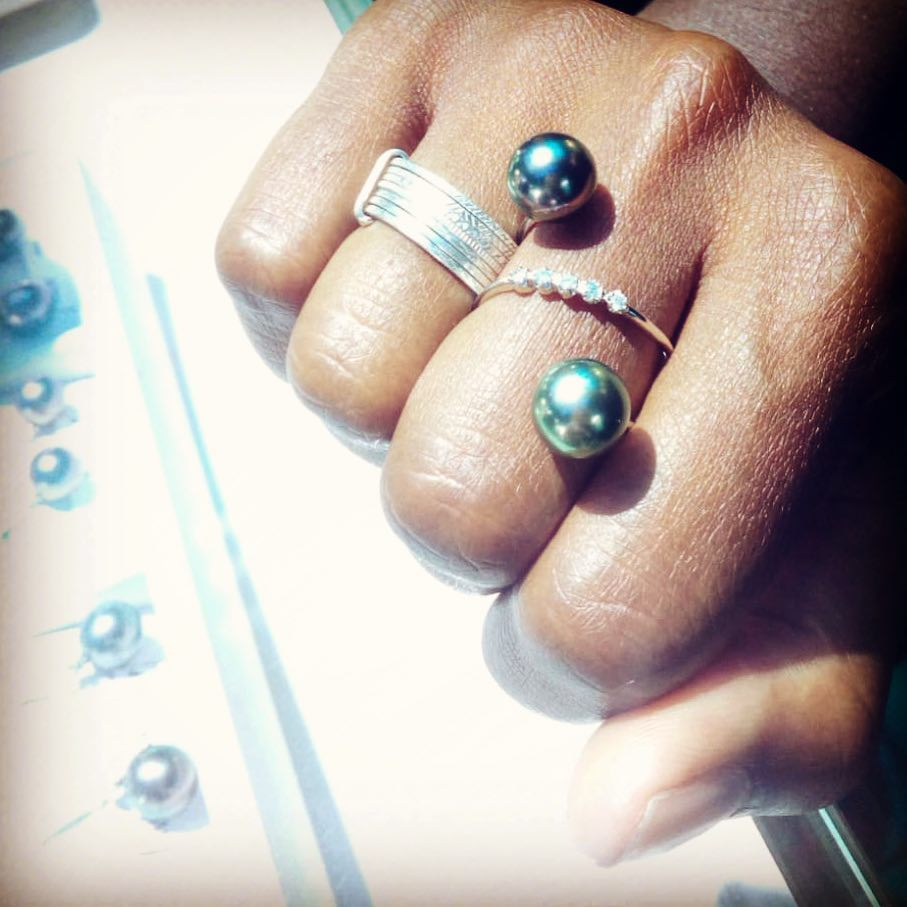hand: (273, 24, 861, 797)
